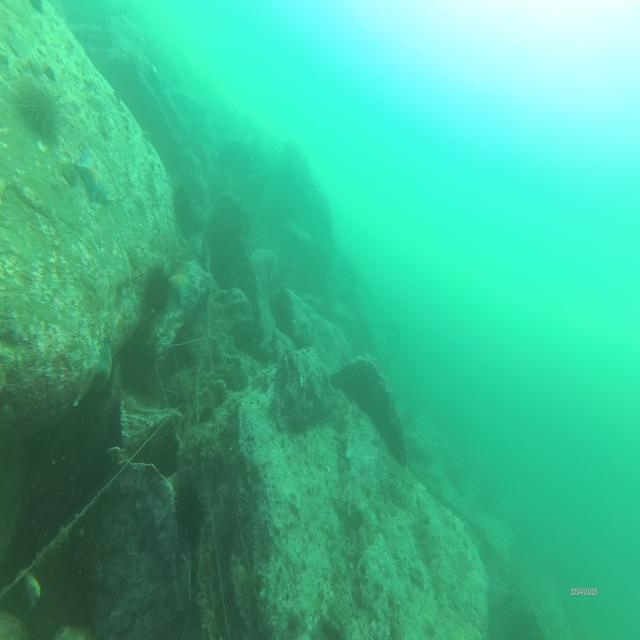echinus: (19, 75, 62, 139), (140, 262, 170, 314)
starfish: (75, 148, 108, 206), (168, 268, 194, 310)
